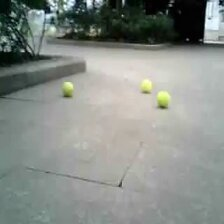tennis: (157, 90, 170, 106), (61, 81, 74, 96), (139, 78, 151, 94)
